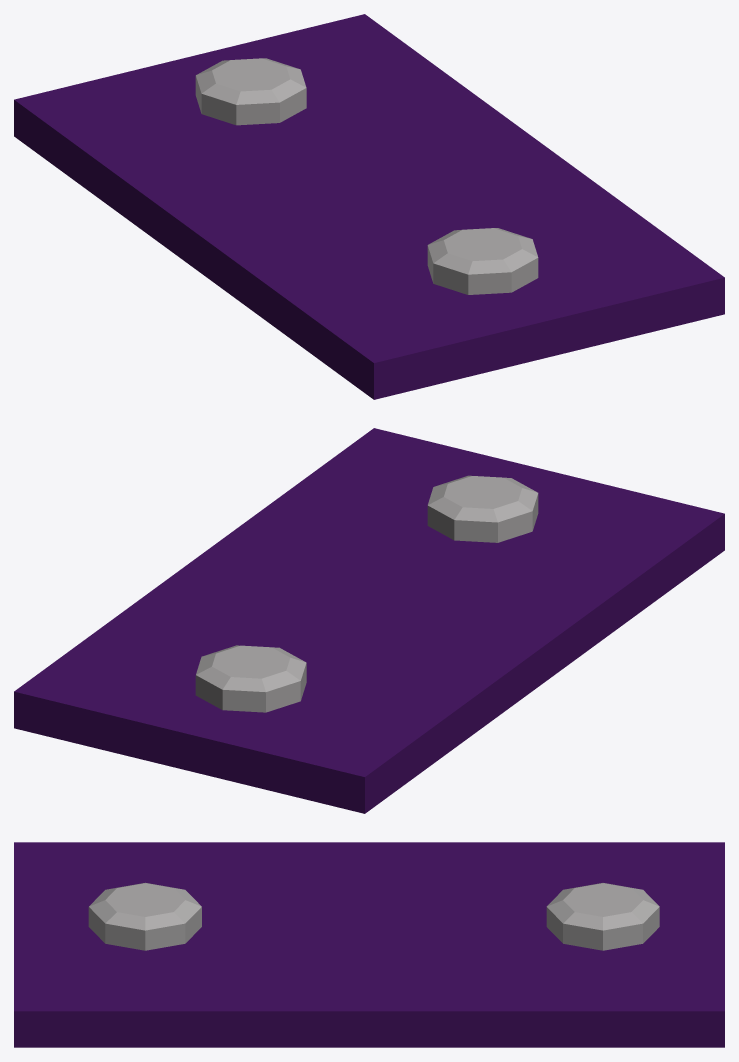
Rendered from Xylophone_07.fbx.
3 views of the same model, one above another, from view 1: azimuth 30°, elevation 25°; view 2: azimuth 150°, elevation 25°; view 3: azimuth 270°, elevation 25° (orthographic).
Visible parts, largest first — view 1: Xylophone_07; view 2: Xylophone_07; view 3: Xylophone_07.
Part boxes in pixels (box(x1,y1,x2,y2)): Xylophone_07: box(14, 14, 724, 399); Xylophone_07: box(14, 428, 724, 813); Xylophone_07: box(14, 842, 724, 1047).
Size of the model in its own units: 100 by 17.38 by 178.
